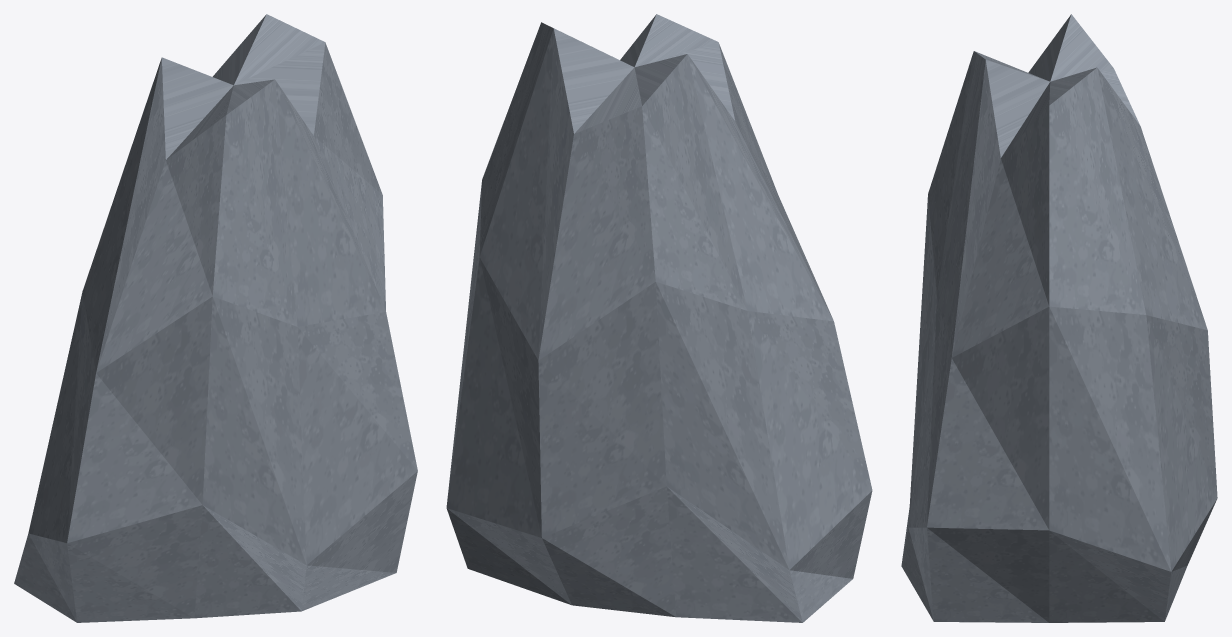
File: showcase_rock_face_variant.glb
The picture shows the model from 3 angles, left to right: view 1: azimuth 30°, elevation 25°; view 2: azimuth 150°, elevation 25°; view 3: azimuth 270°, elevation 25°; orthographic projection. The views are drawn at different scales.
Visible parts, largest first — view 1: outdoor_showcase_rock_face_variant; view 2: outdoor_showcase_rock_face_variant; view 3: outdoor_showcase_rock_face_variant.
Boxes of the visible parts, box(x1,y1,x2,y2) form: outdoor_showcase_rock_face_variant: box(14, 14, 417, 622); outdoor_showcase_rock_face_variant: box(446, 14, 872, 622); outdoor_showcase_rock_face_variant: box(901, 14, 1217, 622).
Size of the model in its own units: 3.4 by 4.8 by 2.6.
Materials: 1 (1 with a texture image).
